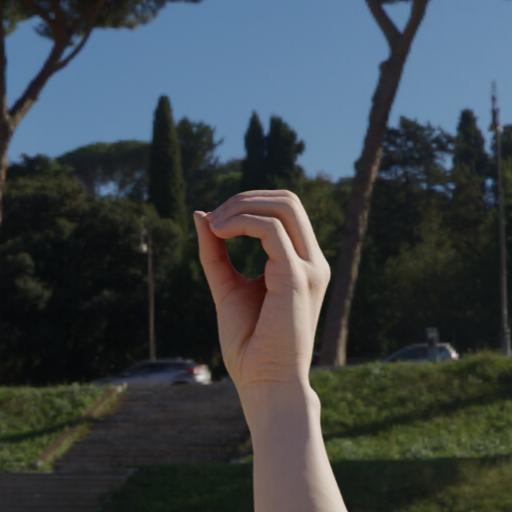O: (176, 173, 350, 502)
